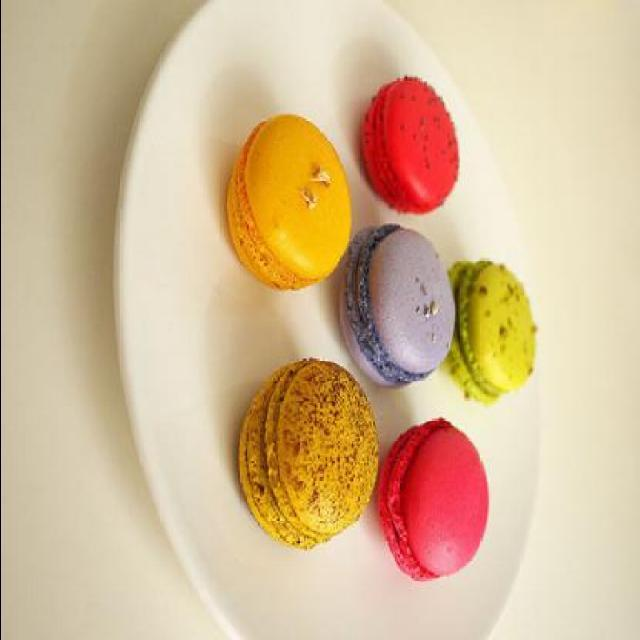Macaron: (202, 67, 540, 571)
